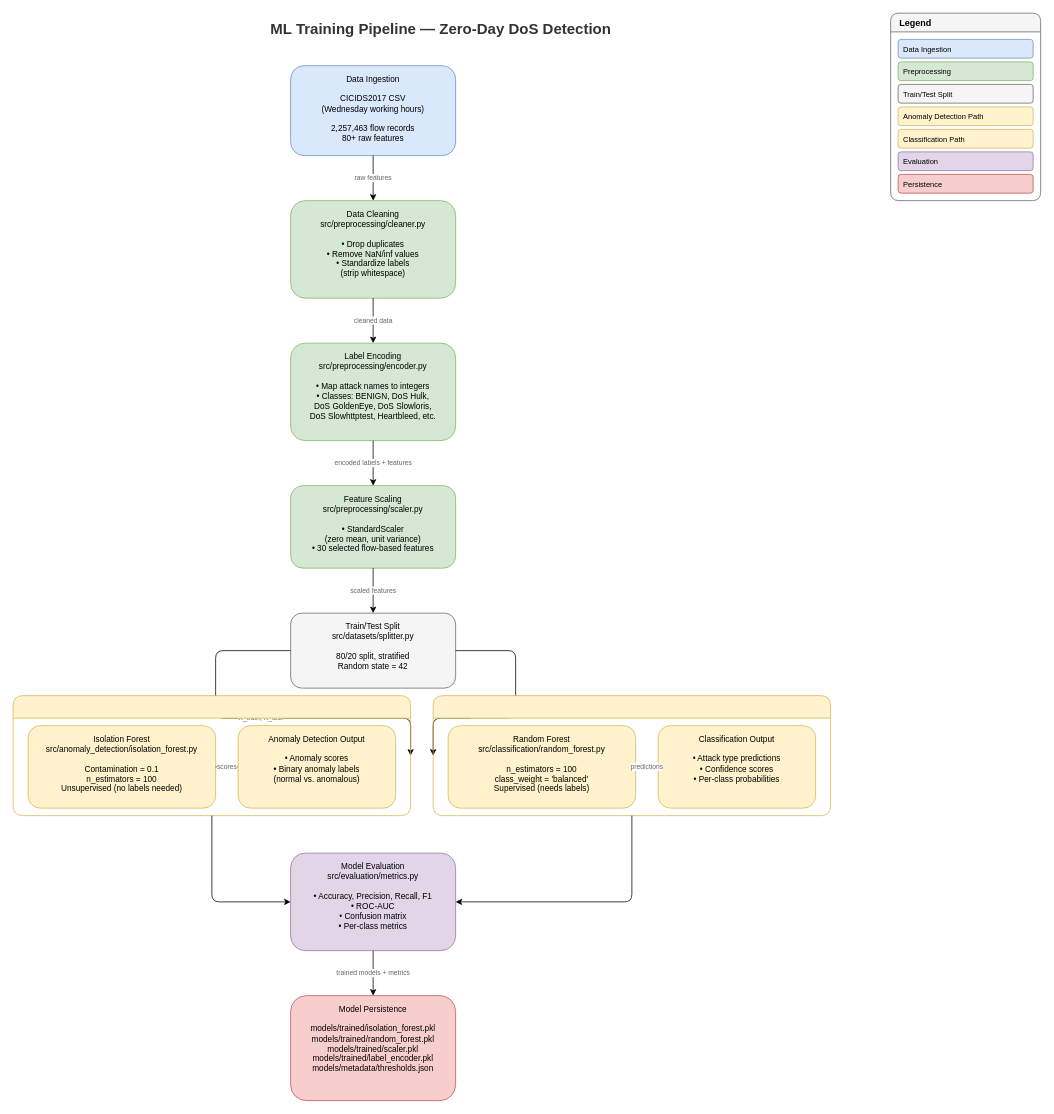
Image size: 1054x1114. Some labels were removed from this diagram. The box of each missing label's shape, as (x1, y1, x2, y2) in pixels:
Path A — Anomaly Detection (Unsupervised): (12, 695, 411, 816)
Path B — Attack Classification (Supervised): (432, 695, 831, 816)
